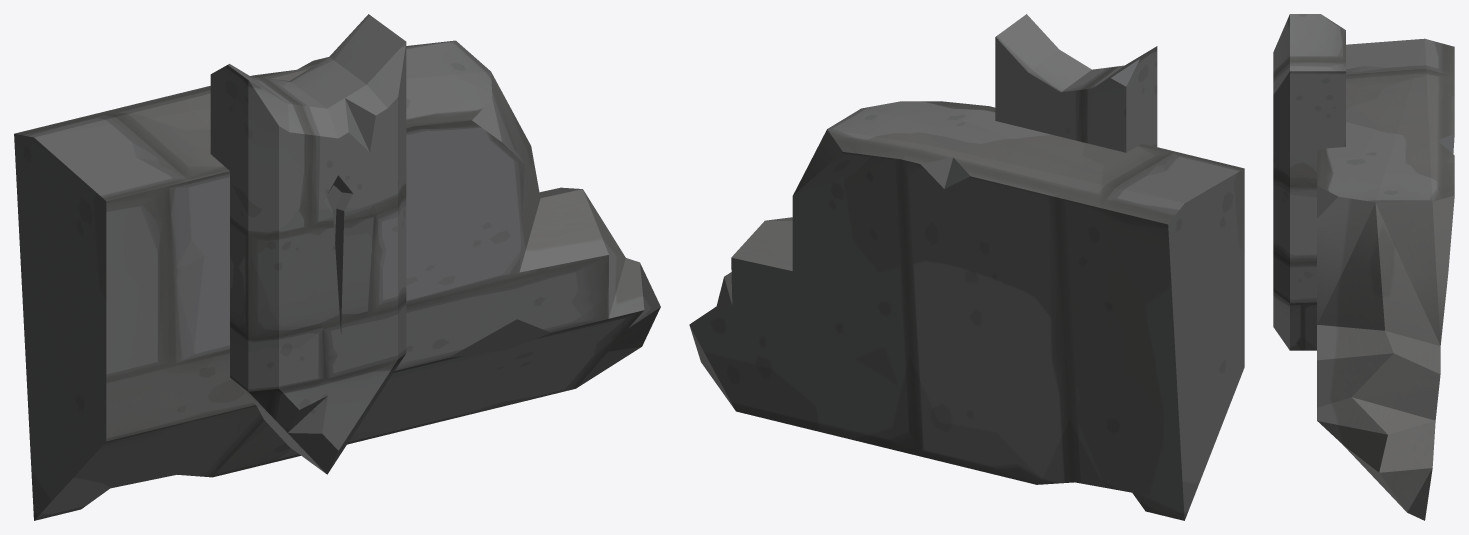
File: SM_Bld_Battlements_Damaged_01.fbx
3 renders of one model, left to right at view 1: azimuth 30°, elevation 25°; view 2: azimuth 150°, elevation 25°; view 3: azimuth 270°, elevation 25°, orthographic. The views are drawn at different scales.
Parts seen in each view (by area): view 1: SM_Bld_Battlements_Damaged_01; view 2: SM_Bld_Battlements_Damaged_01; view 3: SM_Bld_Battlements_Damaged_01.
Part boxes in pixels (left/top/right/bottom): SM_Bld_Battlements_Damaged_01: left=14, top=14, right=660, bottom=520; SM_Bld_Battlements_Damaged_01: left=689, top=14, right=1244, bottom=520; SM_Bld_Battlements_Damaged_01: left=1273, top=14, right=1454, bottom=520.
Bounding box in the file's own units: 260 × 199 × 92.1.
Materials: 1 (1 with a texture image).
